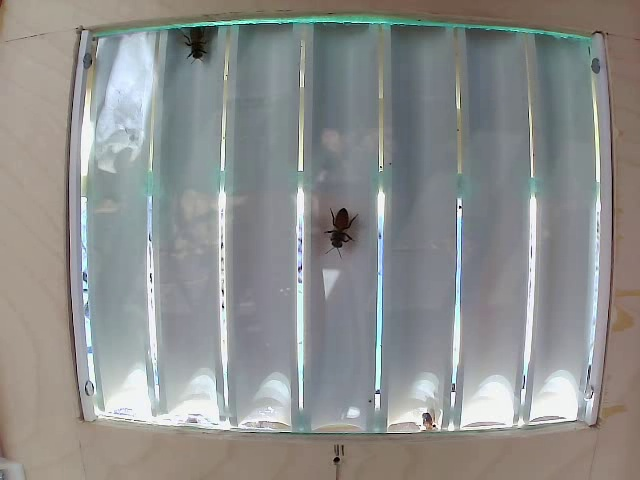bee: (314, 200, 364, 270), (186, 23, 223, 78)
